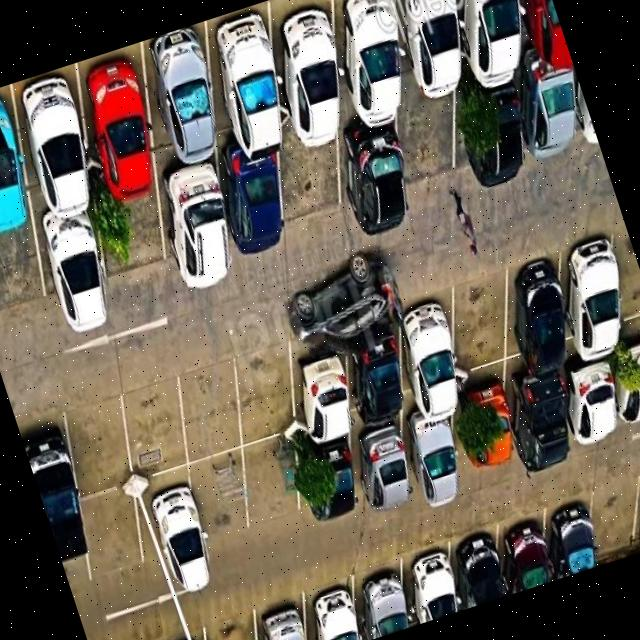Car: (70, 42, 187, 210), (251, 0, 379, 152), (195, 6, 311, 160), (1, 66, 115, 222), (138, 29, 249, 174), (197, 134, 315, 270), (322, 0, 443, 132), (19, 412, 116, 570), (382, 287, 492, 426), (544, 213, 640, 370), (278, 245, 411, 358), (144, 157, 252, 295), (331, 107, 434, 251), (427, 0, 564, 103), (31, 205, 132, 344), (374, 0, 502, 105), (495, 252, 597, 380), (447, 72, 552, 196), (492, 368, 600, 484), (440, 371, 538, 486), (148, 473, 232, 602), (507, 55, 598, 171), (287, 344, 378, 448), (0, 85, 53, 244), (351, 424, 436, 522), (342, 337, 426, 436), (561, 361, 640, 462), (294, 432, 372, 530), (407, 414, 482, 515), (341, 551, 424, 640), (486, 510, 566, 595), (446, 514, 519, 607), (538, 489, 614, 578), (291, 567, 382, 640), (402, 537, 477, 622), (557, 70, 607, 174), (505, 0, 573, 73), (245, 585, 322, 640), (607, 339, 640, 434), (148, 622, 225, 640)
Free: (430, 254, 545, 387), (146, 360, 267, 482), (202, 340, 324, 460), (224, 435, 332, 558), (177, 440, 279, 570), (53, 390, 154, 510), (387, 99, 488, 216), (110, 379, 210, 494), (88, 196, 190, 307), (264, 142, 369, 245), (58, 490, 157, 597), (0, 236, 58, 346), (578, 485, 640, 566), (599, 229, 640, 340), (190, 600, 278, 640)
